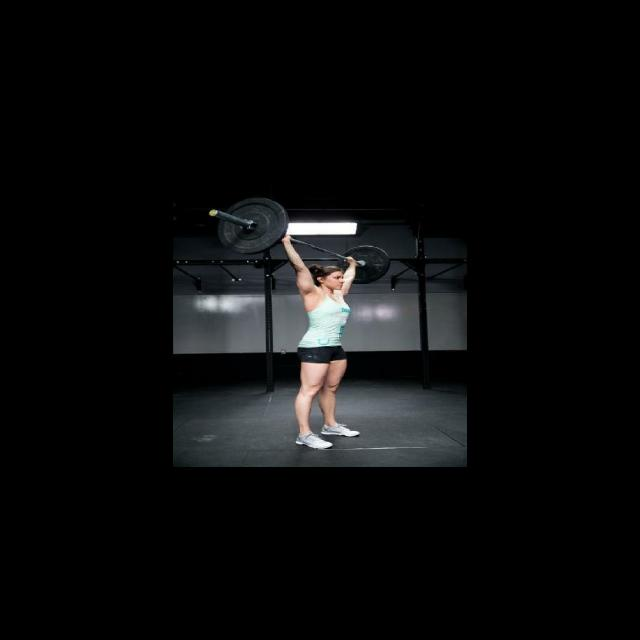barbell: (206, 194, 291, 255)
